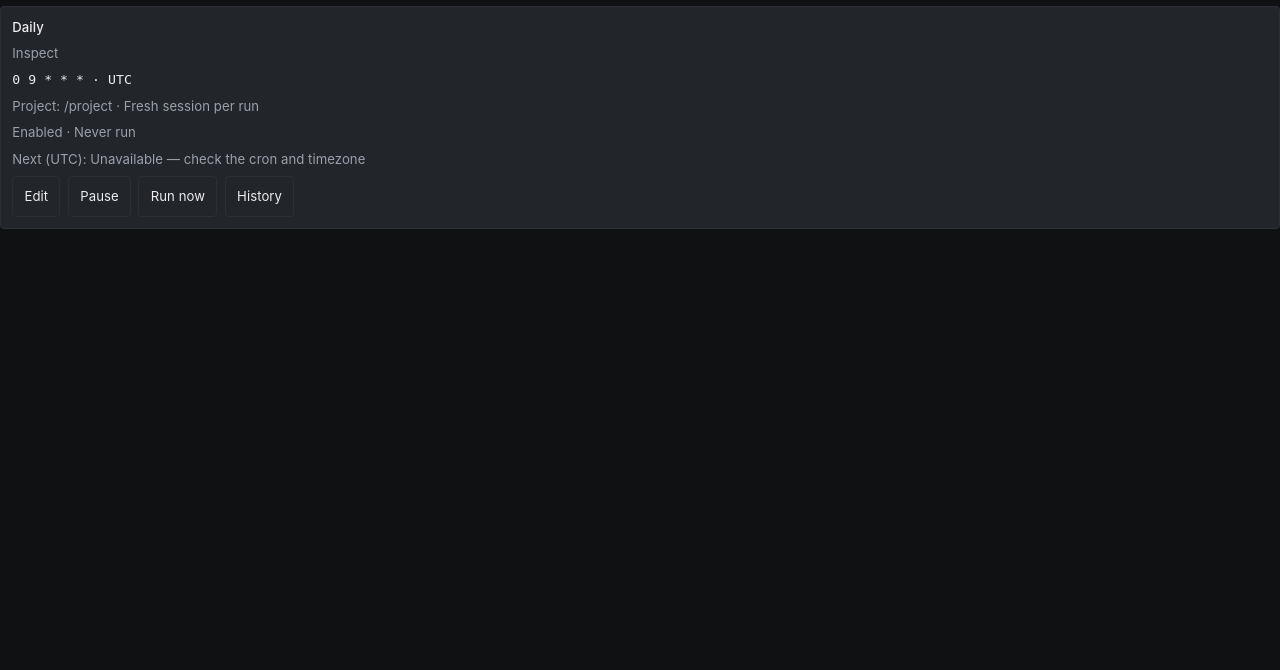
Test case: SchedulesPane workflow › retains edit values on conflict and sends the original revision
Click the button with aria-label "Edit Daily" at (36, 196), box [12,176,60,217]
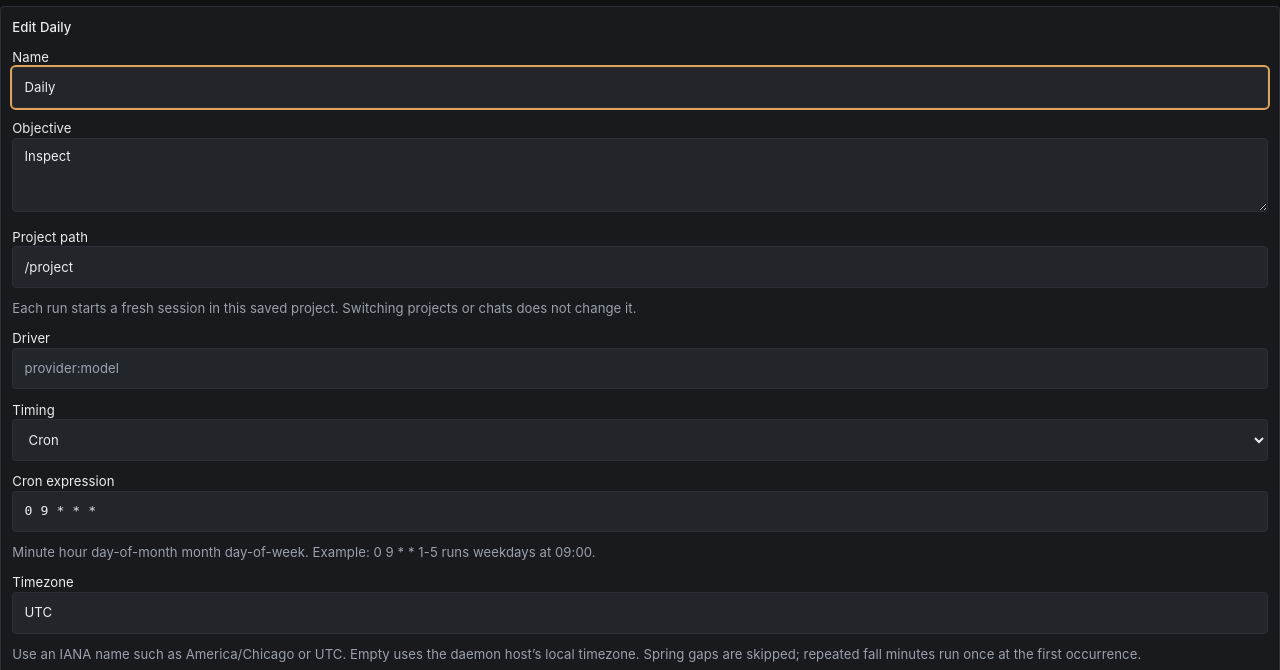
Replace the text in the field labelled "Name" with "Edited" at (640, 87), box [12,67,1268,108]
(page scrolled)
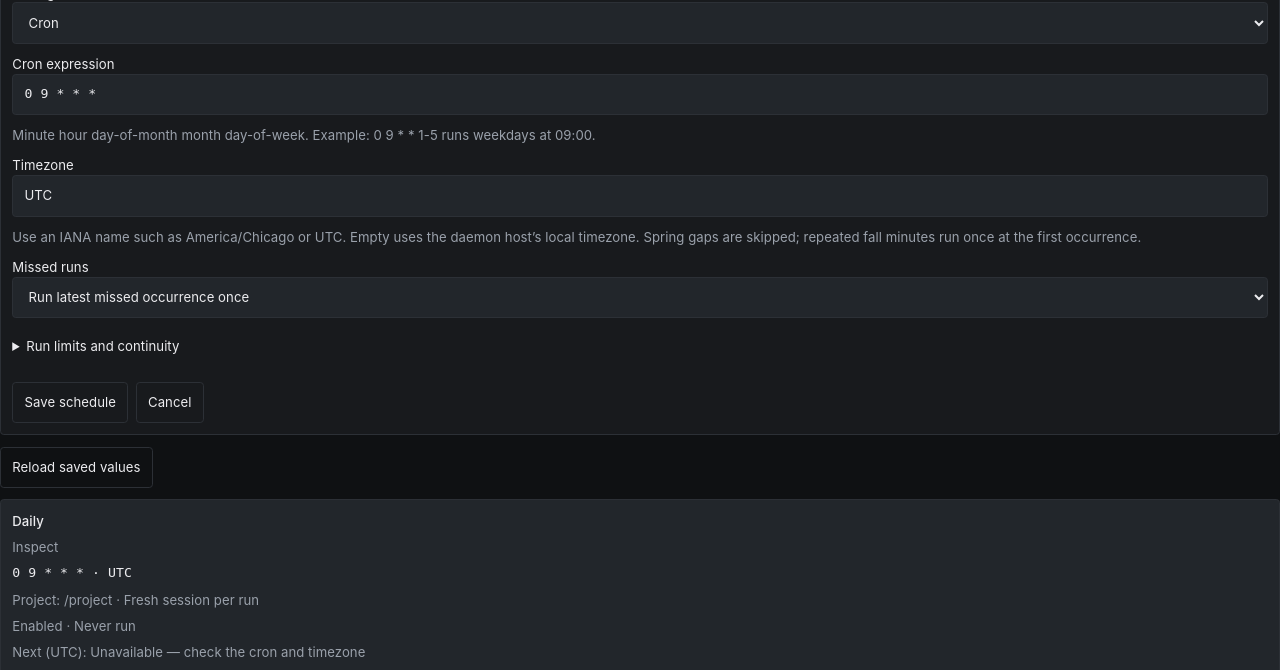
Click the button "Save schedule" at (70, 403), box [12,382,128,423]
(page scrolled)
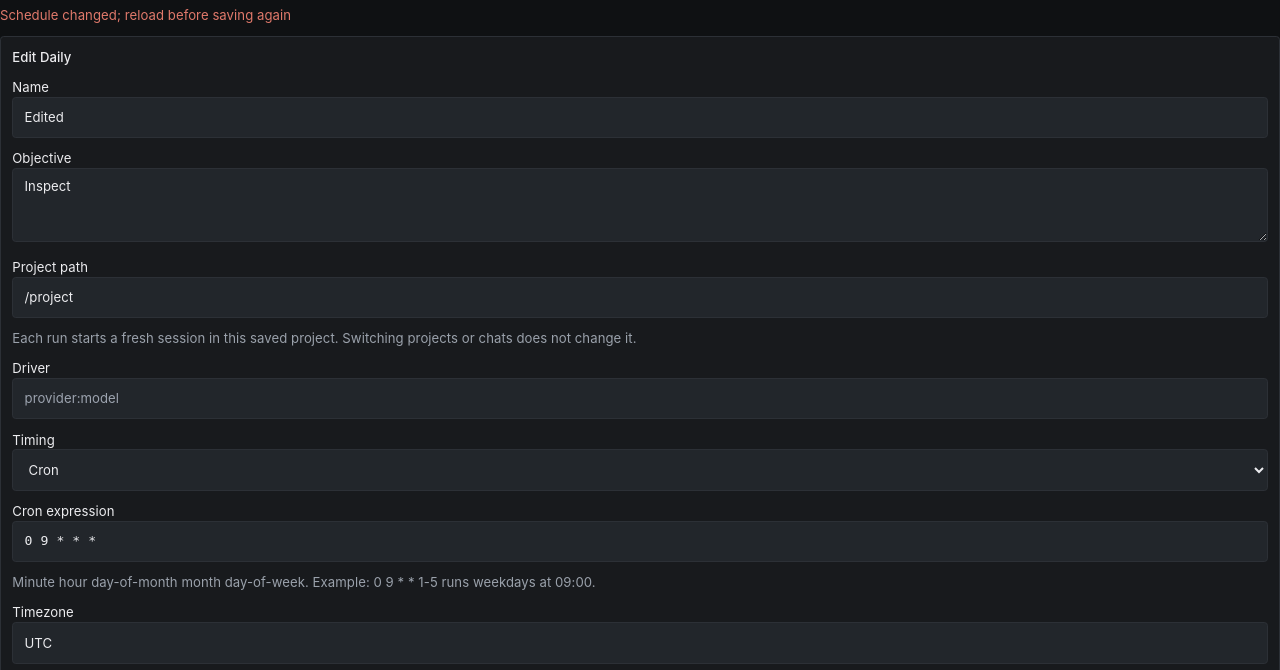
Expected: the message shows "reload", [0,7,291,23]
